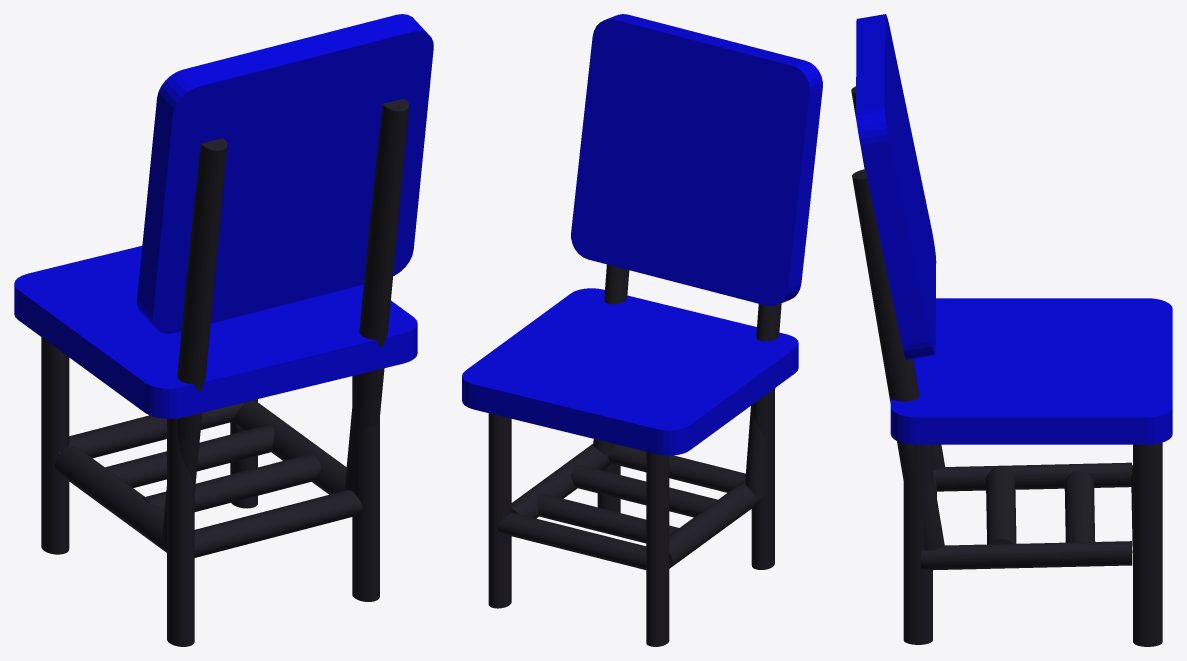
The model's file is silla100.fbx.
3 views of the same model, side by side, from view 1: azimuth 30°, elevation 25°; view 2: azimuth 150°, elevation 25°; view 3: azimuth 270°, elevation 25° (orthographic). The views are drawn at different scales.
Parts seen in each view (by area): view 1: silla.002; view 2: silla.002; view 3: silla.002.
Part boxes in pixels (<box>): silla.002: <box>14,14,433,646</box>; silla.002: <box>462,14,822,646</box>; silla.002: <box>851,14,1172,646</box>.
Size of the model in its own units: 133 by 278 by 151.
